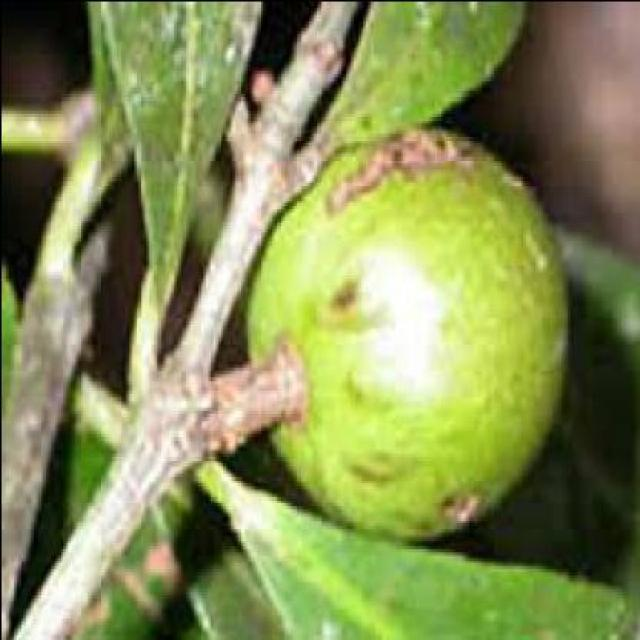BIODEGRADABLE: (249, 129, 563, 537)
